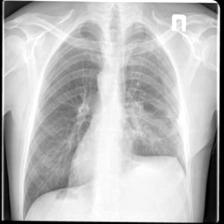tuberculosis: (16, 12, 194, 220)
